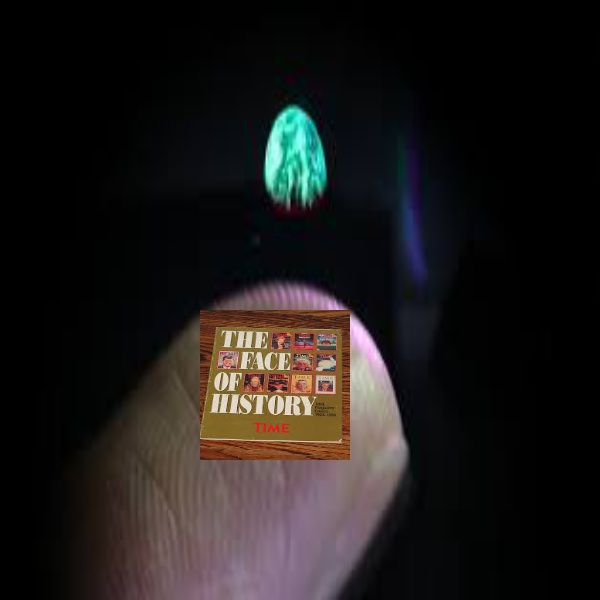time_cover: (208, 319, 344, 440)
